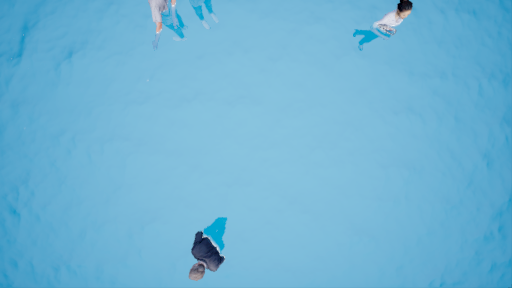person: (182, 214, 243, 285), (352, 1, 424, 53), (139, 1, 192, 44)
